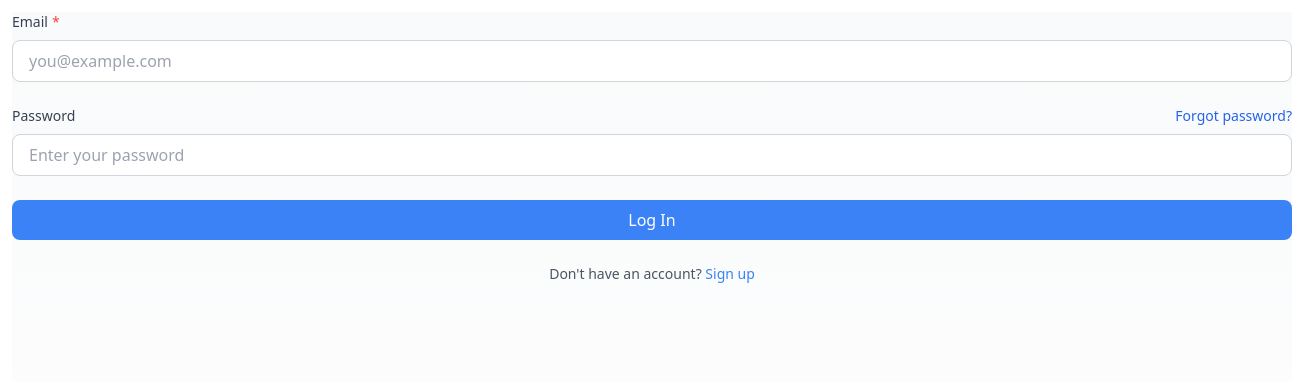
Scenario: LoginForm › displays error message for non-existent account
Type "nonexistent@example.com" into the field labelled "Email*".
click(652, 61); type("nonexistent@example.com")  # box [12,40,1292,82]
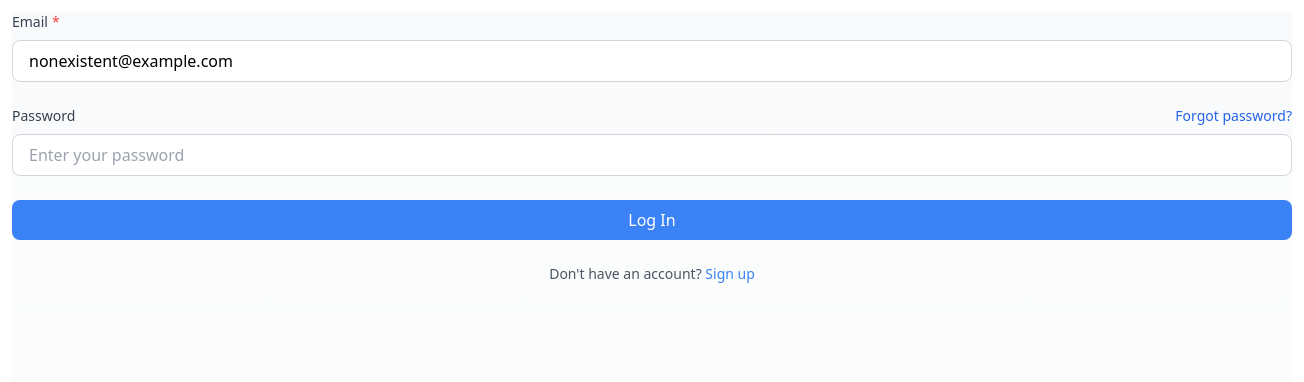
Type "somePassword123" into the password field labelled "Password".
click(652, 155); type("somePassword123")  # box [12,134,1292,176]
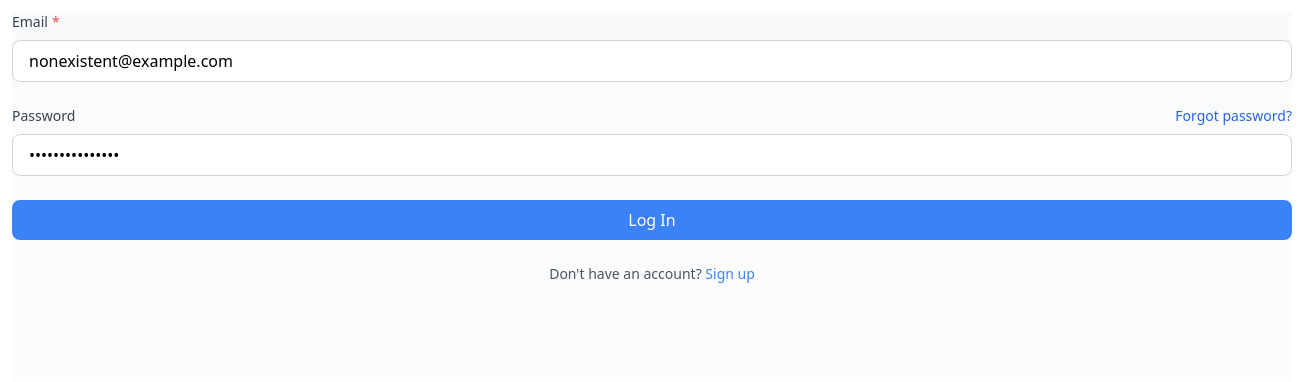
Click the button "Log In".
click(652, 220)  # box [12,200,1292,240]
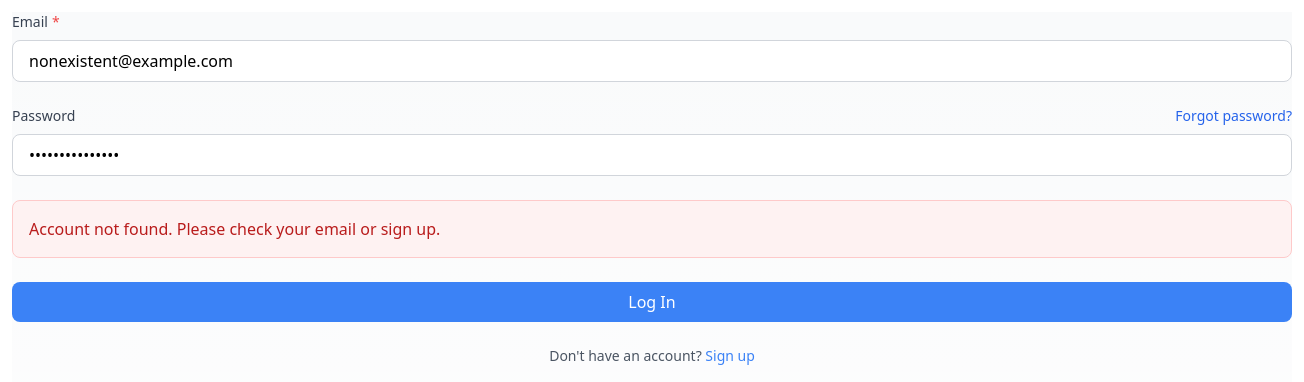
Expected: the text "Account not found. Please check your email or sign up." is shown, [12,200,1292,258]
